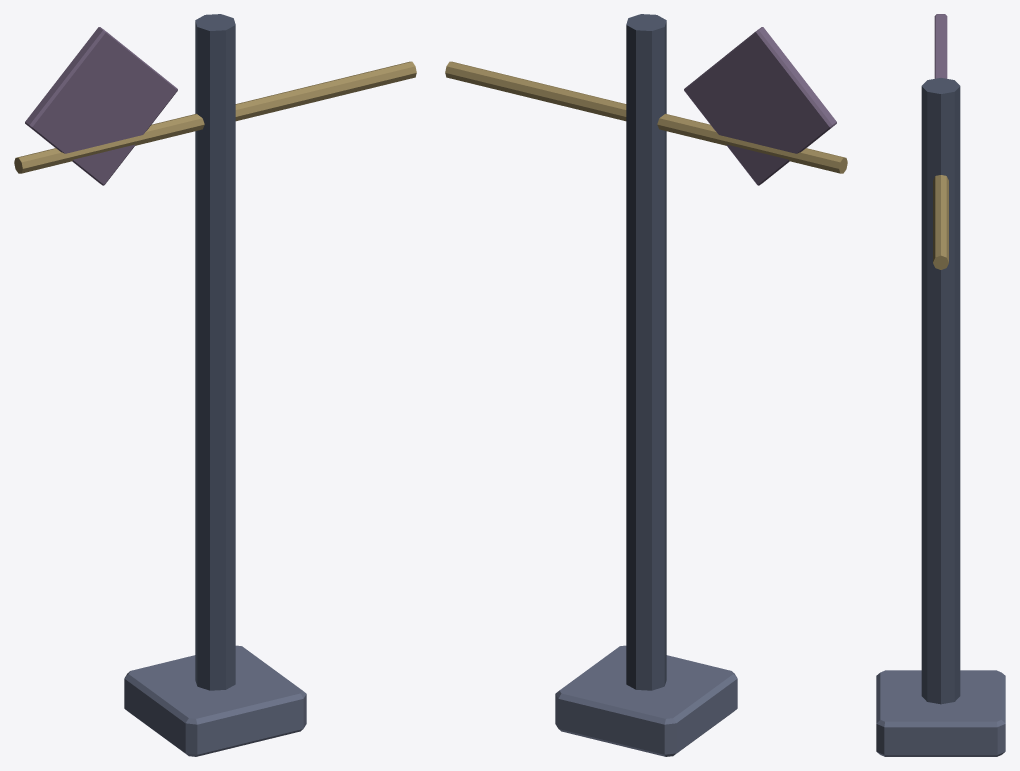
The model's file is wind-vane.glb.
3 renders of one model, left to right at view 1: azimuth 30°, elevation 25°; view 2: azimuth 150°, elevation 25°; view 3: azimuth 270°, elevation 25°, orthographic. The views are drawn at different scales.
Visible parts, largest first — view 1: wind-vane__body; view 2: wind-vane__body; view 3: wind-vane__body.
Part boxes in pixels (bbox=[...]): wind-vane__body: bbox=[14, 14, 416, 756]; wind-vane__body: bbox=[445, 14, 847, 756]; wind-vane__body: bbox=[876, 14, 1005, 756].
Bounding box in the file's own units: 1.3 × 2.27 × 0.4.
